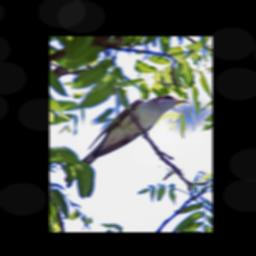Cuckoo: (64, 94, 188, 183)
